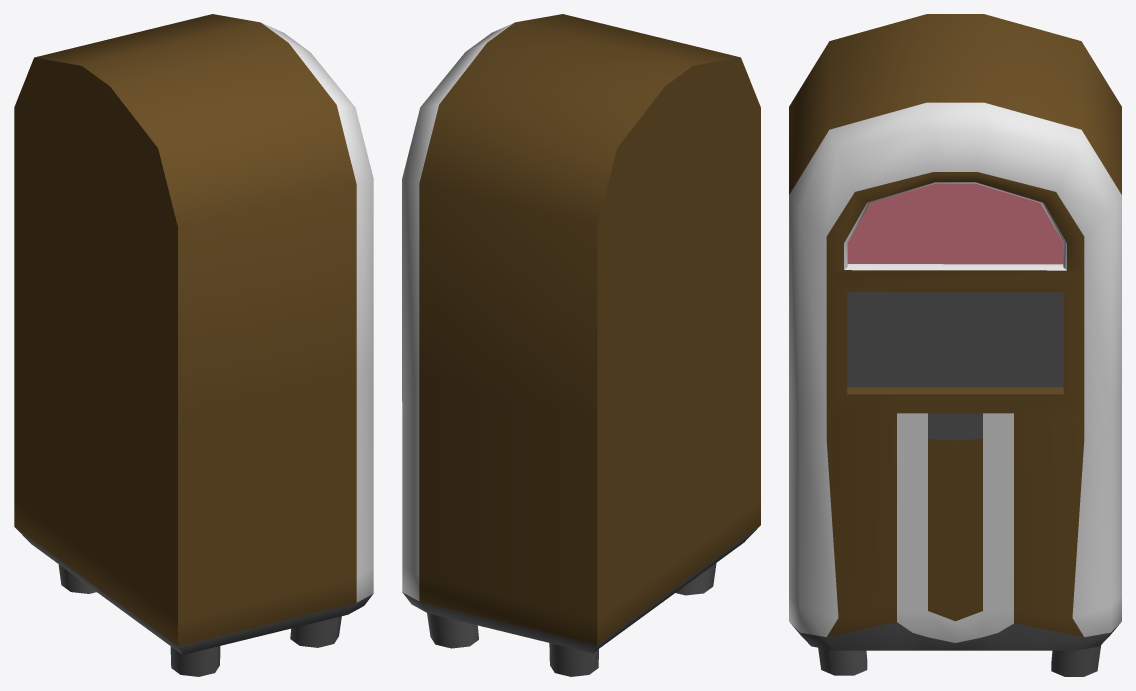
The model's file is Jukebox.fbx.
The picture shows the model from 3 angles, left to right: view 1: azimuth 30°, elevation 25°; view 2: azimuth 150°, elevation 25°; view 3: azimuth 270°, elevation 25°; orthographic projection.
Visible parts, largest first — view 1: Cube; view 2: Cube; view 3: Cube.
Boxes of the visible parts, <box> form: Cube: <box>14,14,373,676</box>; Cube: <box>402,14,760,676</box>; Cube: <box>789,14,1121,676</box>.
Bounding box in the file's own units: 201 × 510 × 269.
